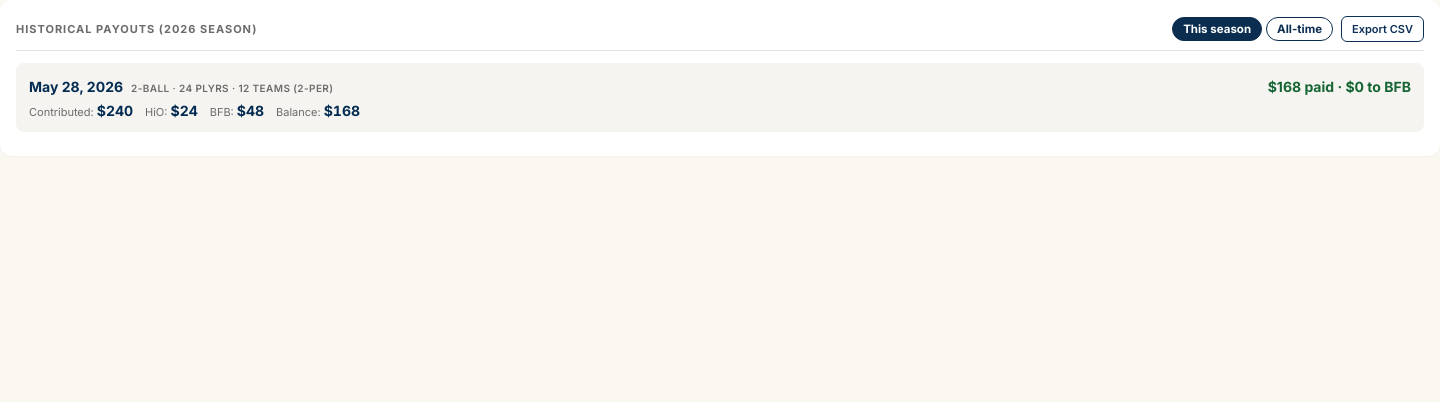
Test case: HistoryPanel › renders a row and expands to per-team payouts on tap
Expected: the text "$168 paid · $0 to BFB" is shown, [1268,78,1411,95]
Expected: the text "Bill C · Dave K" is not shown
Click the element with test id "winnings-history-row". click: {"x": 720, "y": 98}
box: [16,63,1424,132]
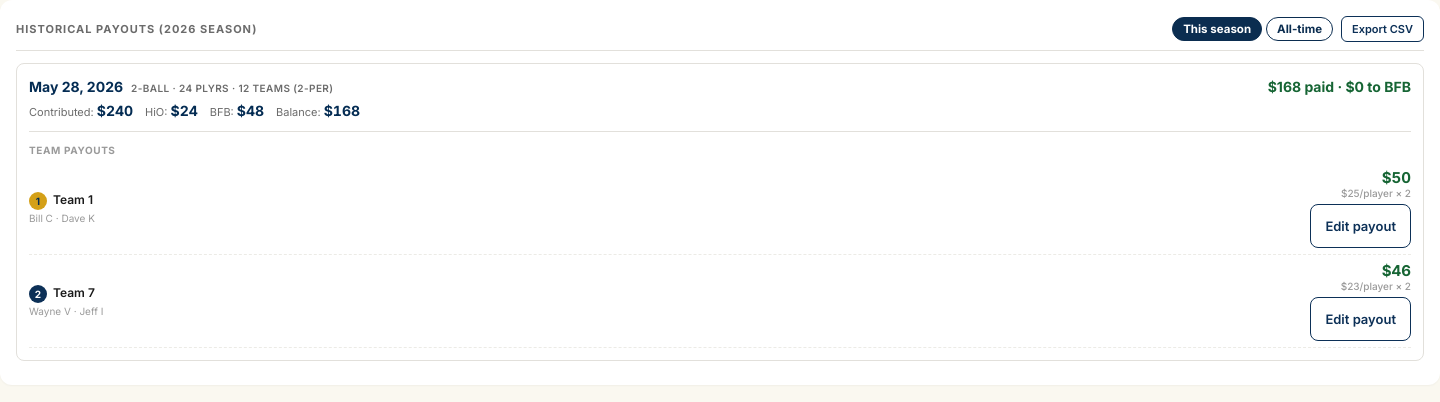
Result: the text "Bill C · Dave K" is shown at [29,212,95,224]
Result: the text "$25/player × 2" is shown at [1341,187,1411,199]
